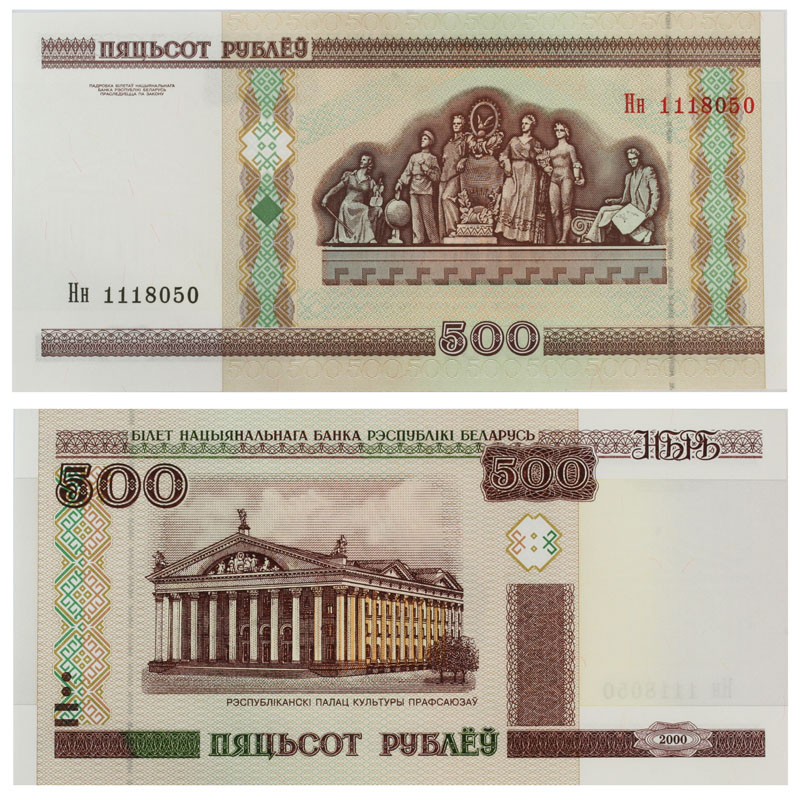belarus_ruble_500: (13, 7, 772, 393), (17, 409, 787, 784)
